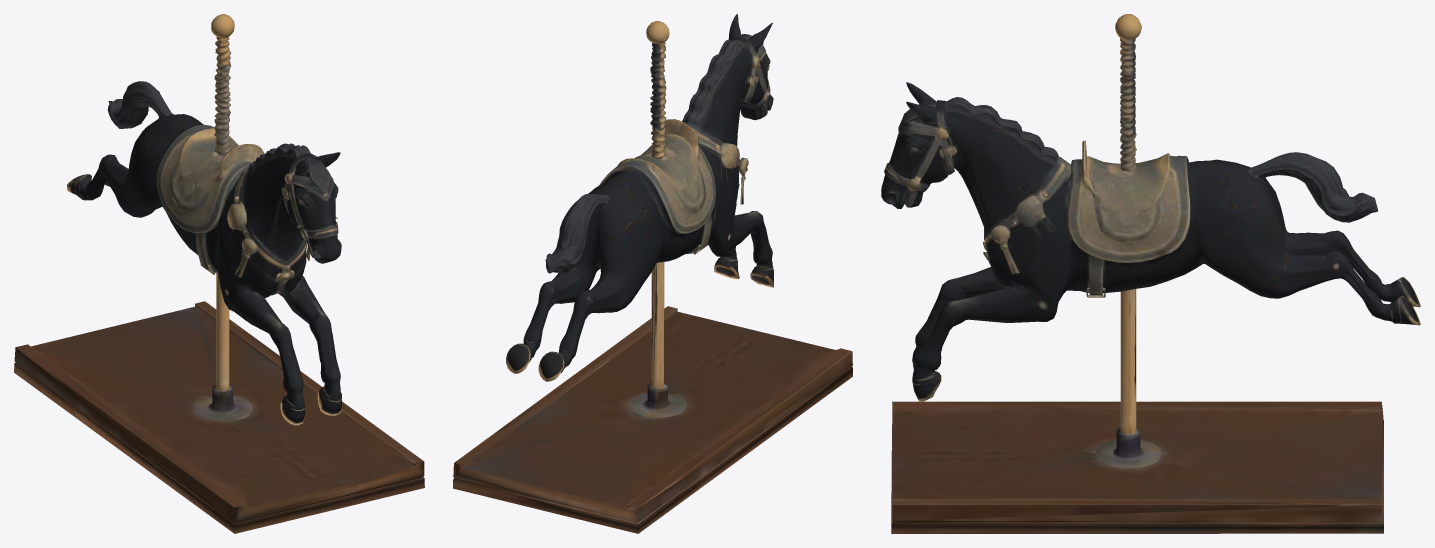
File: horse.glb
3 renders of one model, left to right at view 1: azimuth 30°, elevation 25°; view 2: azimuth 150°, elevation 25°; view 3: azimuth 270°, elevation 25°, orthographic. The views are drawn at different scales.
Visible parts, largest first — view 1: midway-fit; view 2: midway-fit; view 3: midway-fit.
Part boxes in pixels (x1,y1,x2,y2): midway-fit: [14, 14, 424, 533]; midway-fit: [453, 14, 852, 533]; midway-fit: [881, 14, 1420, 533].
Size of the model in its own units: 0.4539 by 0.955 by 1.
1 material, 1 textured.
